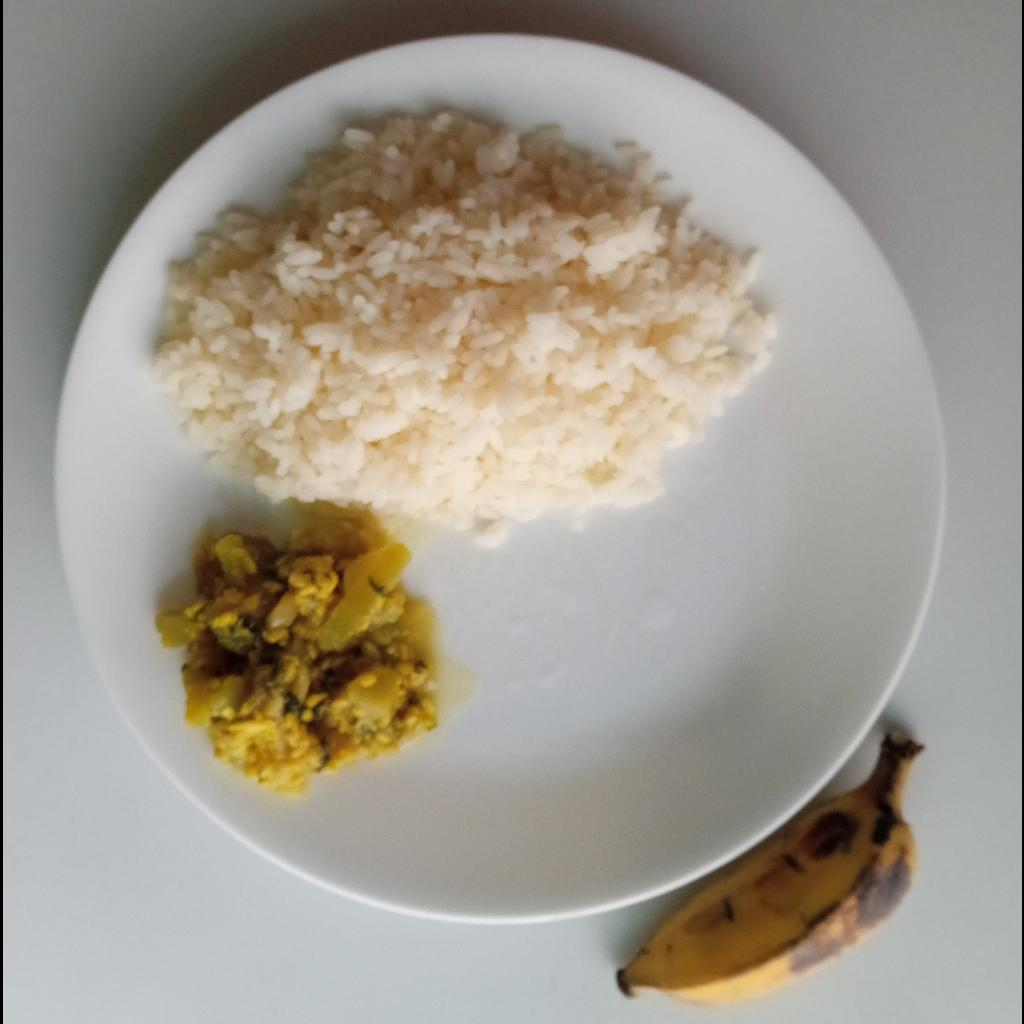banana: (617, 727, 928, 1007)
lau: (151, 513, 438, 802)
rice: (148, 109, 771, 538)
